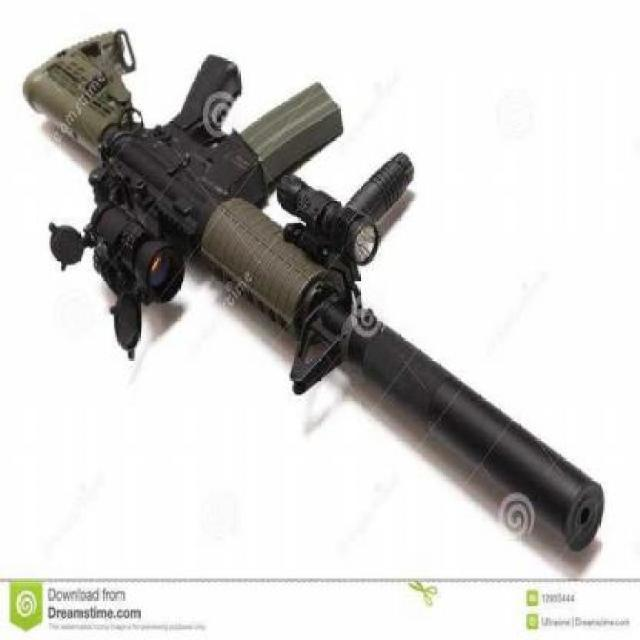heavy-weapon: (23, 25, 605, 554)
